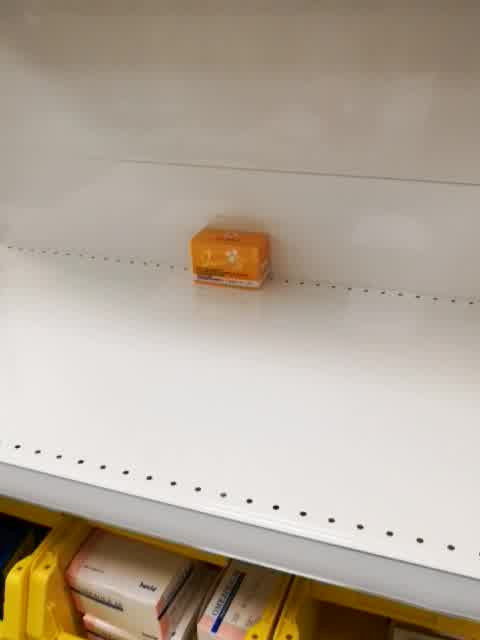jasminetea: (187, 225, 272, 290)
